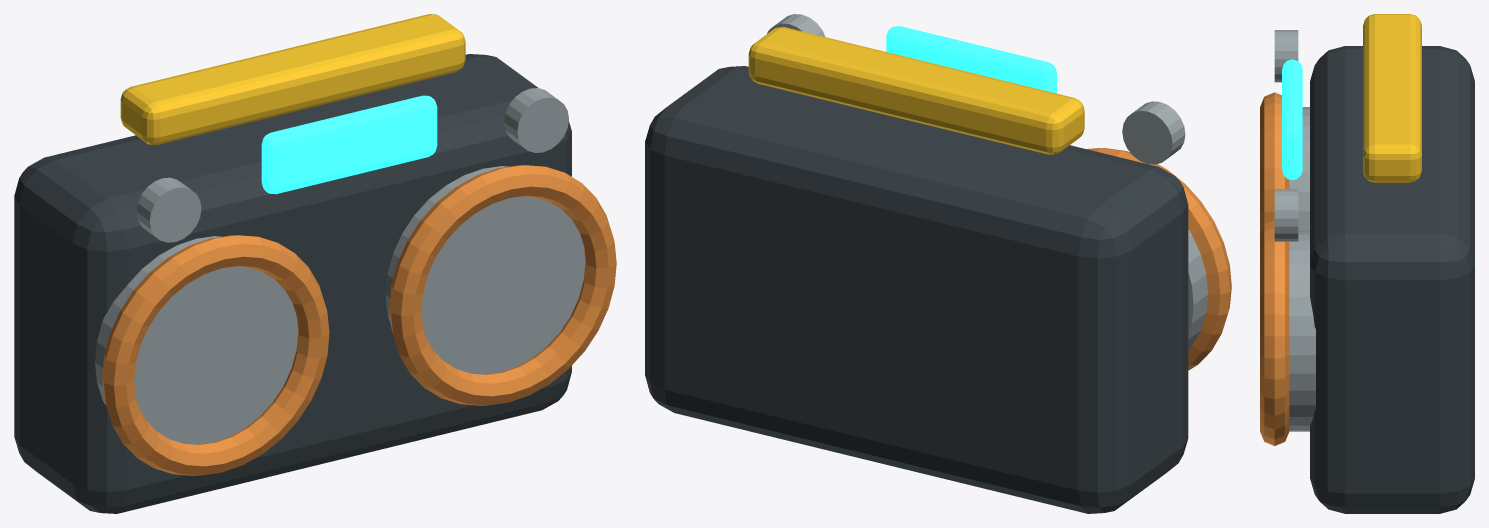
File: boombox_variant_a.glb
3 renders of one model, left to right at view 1: azimuth 30°, elevation 25°; view 2: azimuth 150°, elevation 25°; view 3: azimuth 270°, elevation 25°, orthographic. The views are drawn at different scales.
Parts seen in each view (by area): view 1: Speaker cabinet, Speaker cone, Speaker cone.001, Handle, Speaker surround, Speaker surround.001, Display, Control knob.001, Control knob; view 2: Speaker cabinet, Handle, Display, Speaker surround.001, Control knob.001, Speaker cone, Control knob; view 3: Speaker cabinet, Handle, Speaker surround, Speaker cone.001, Speaker surround.001, Display, Control knob, Speaker cone, Control knob.001.
Boxes of the visible parts, x1=… form: Speaker cabinet: x1=14, y1=54, x2=571, y2=513; Speaker cone: x1=95, y1=236, x2=298, y2=444; Speaker cone.001: x1=385, y1=166, x2=585, y2=374; Handle: x1=120, y1=14, x2=465, y2=144; Speaker surround: x1=389, y1=165, x2=616, y2=405; Speaker surround.001: x1=102, y1=235, x2=329, y2=475; Display: x1=261, y1=95, x2=437, y2=194; Control knob.001: x1=136, y1=177, x2=201, y2=242; Control knob: x1=504, y1=88, x2=568, y2=152; Speaker cabinet: x1=645, y1=66, x2=1188, y2=513; Handle: x1=748, y1=27, x2=1084, y2=154; Display: x1=886, y1=26, x2=1056, y2=93; Speaker surround.001: x1=1086, y1=148, x2=1231, y2=370; Control knob.001: x1=1122, y1=101, x2=1185, y2=164; Speaker cone: x1=1188, y1=229, x2=1207, y2=348; Control knob: x1=767, y1=14, x2=825, y2=36; Speaker cabinet: x1=1310, y1=46, x2=1474, y2=513; Handle: x1=1363, y1=14, x2=1421, y2=182; Speaker surround: x1=1260, y1=217, x2=1289, y2=445; Speaker cone.001: x1=1289, y1=231, x2=1315, y2=431; Speaker surround.001: x1=1260, y1=92, x2=1289, y2=230; Display: x1=1282, y1=59, x2=1302, y2=180; Control knob: x1=1274, y1=189, x2=1298, y2=241; Speaker cone: x1=1289, y1=107, x2=1309, y2=231; Control knob.001: x1=1274, y1=30, x2=1298, y2=82.
Size of what is drawn, in the model's own units: 0.89 by 0.635 by 0.365.
